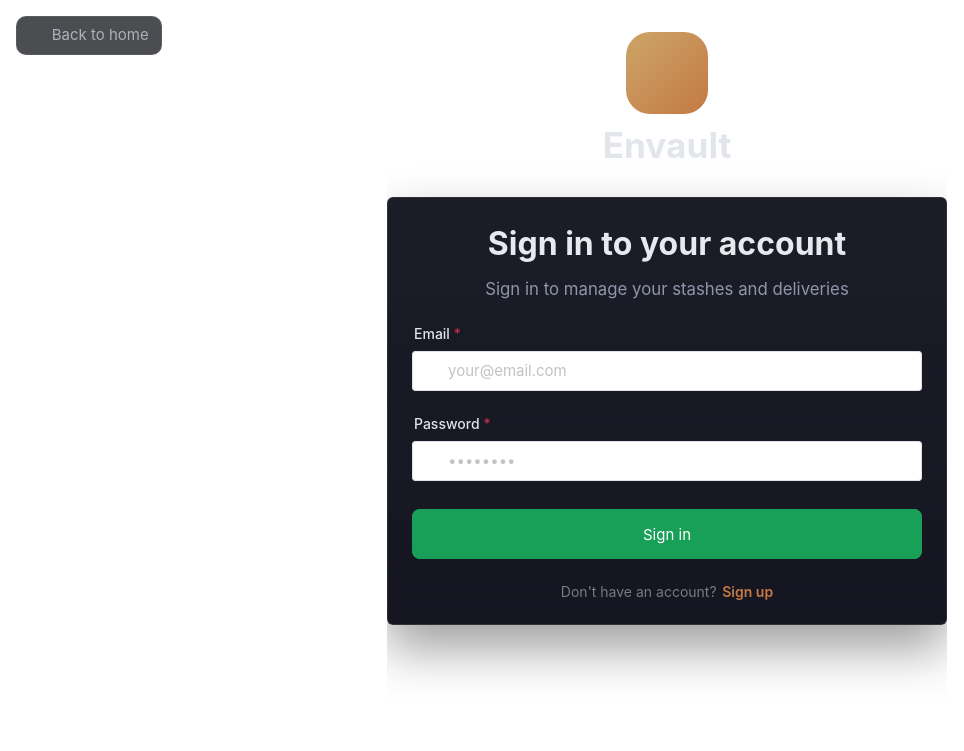
Test: Login.vue › shows an error message when login fails
Type "a@b.com" into the field with placeholder "your@email.com". click: point(678, 371)
box: [448,351,908,391]
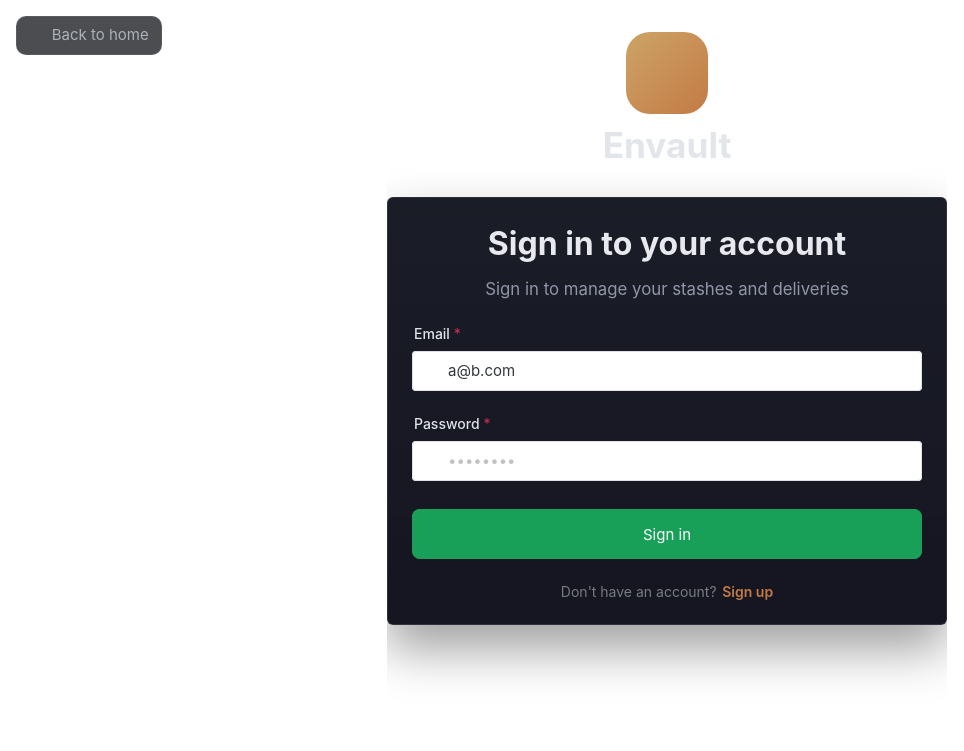
Type "Passw0rd" into the password field with placeholder "••••••••". click: point(667, 461)
box: [448,441,886,481]
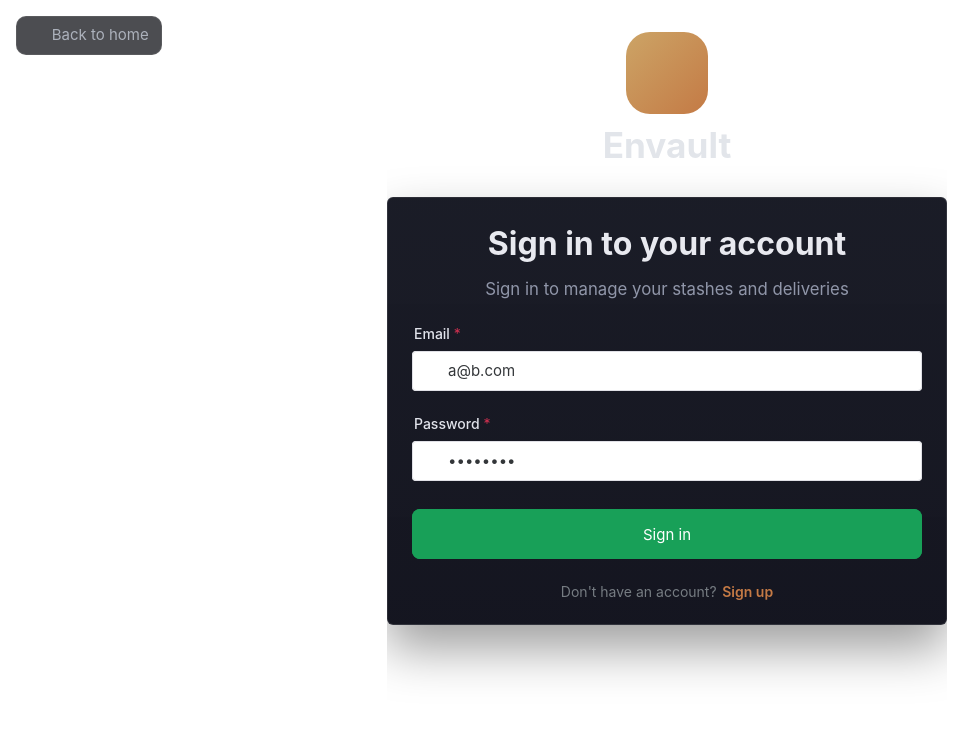
Click the button with class "submit-btn". click: point(667, 534)
box: [412,509,922,559]
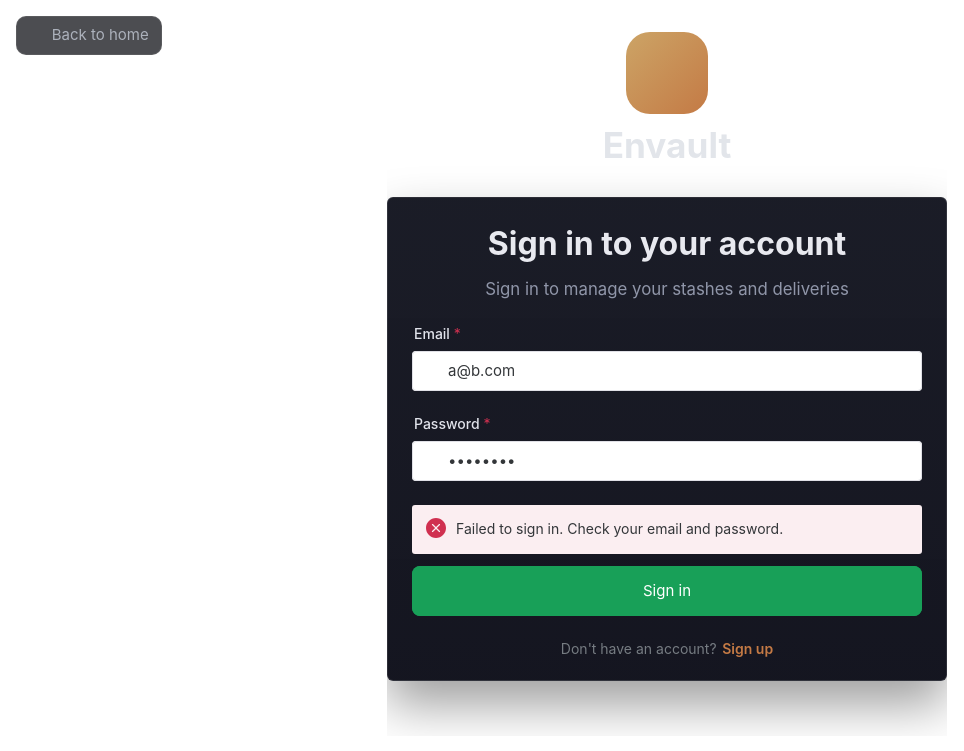
Check: the message "Failed to sign in. Check your email and password." is shown, box [412,505,922,554]
